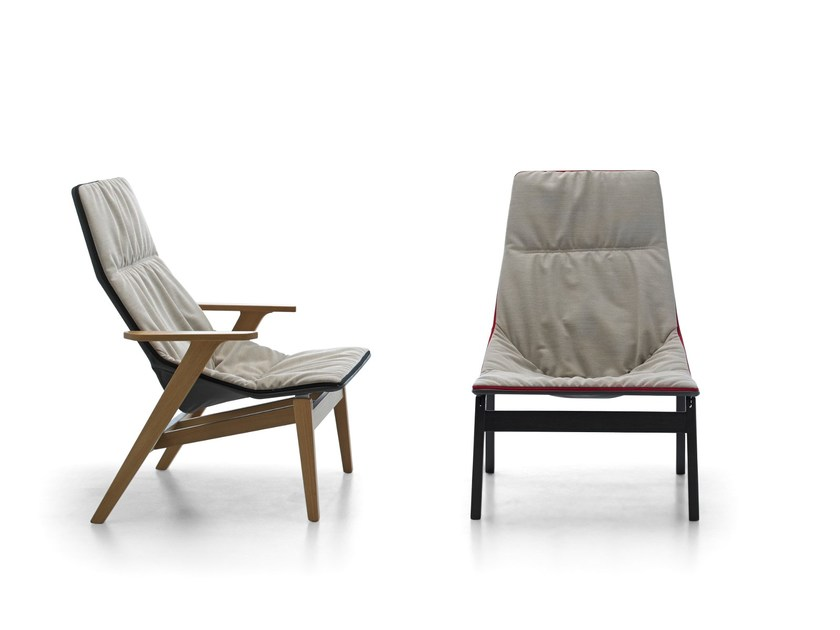chairs: (70, 171, 373, 528), (463, 171, 705, 528)
